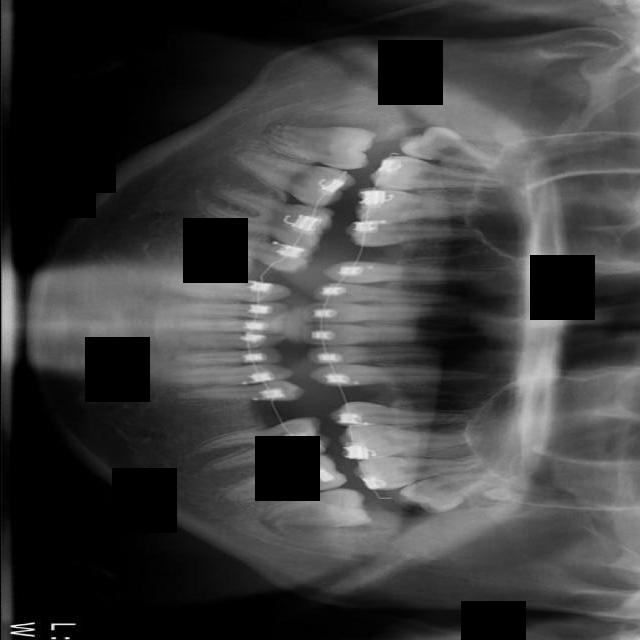3M ESPE Implant: (400, 120, 502, 172)
73: (46, 584, 56, 592)
BioHorizons Implant: (356, 443, 485, 492)
BioLife Implant: (397, 465, 500, 520)
Biomet 3i Implant: (266, 489, 368, 528)
Blue Sky Bio Implant: (227, 450, 344, 504)
Caries: (371, 152, 499, 206)
Implant: (232, 149, 353, 211)
Keystone Dental Implant: (263, 124, 372, 170)
